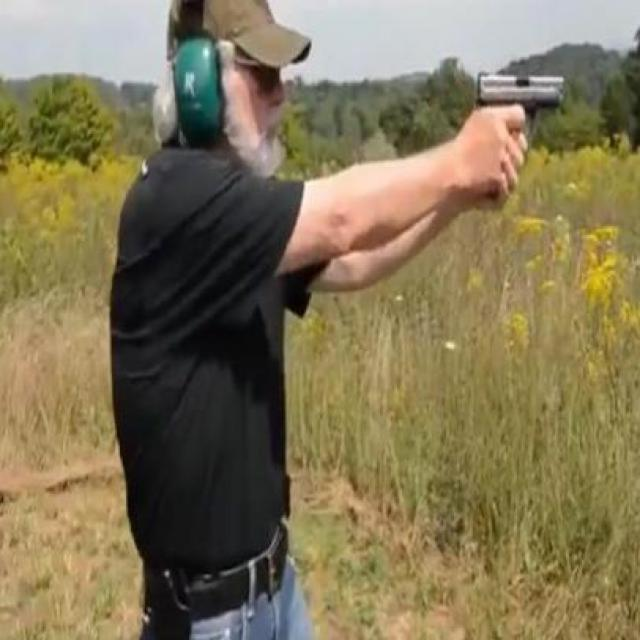pistol: (469, 70, 566, 198)
